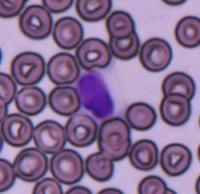M: (75, 68, 127, 122)
